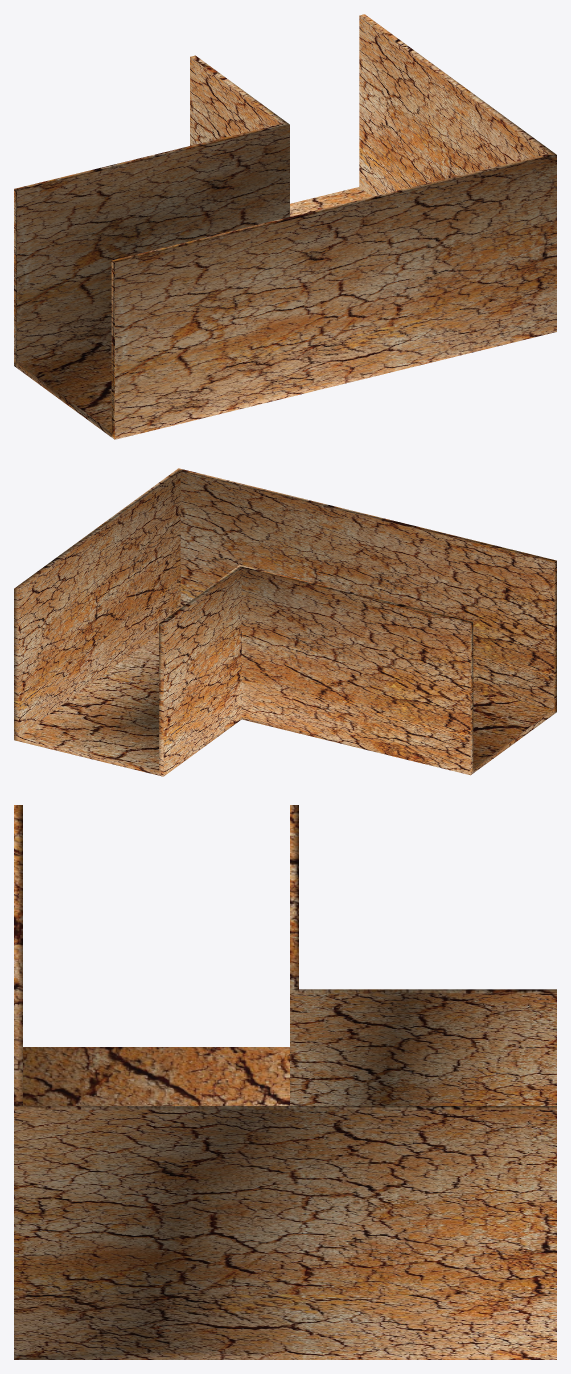
File: Pasillo4.obj
3 views of the same model, one above another, from view 1: azimuth 30°, elevation 25°; view 2: azimuth 150°, elevation 25°; view 3: azimuth 270°, elevation 25° (orthographic). The views are drawn at different scales.
Parts seen in each view (by area): view 1: Pasillo033; view 2: Pasillo033; view 3: Pasillo033.
Boxes of the visible parts, box(x1,y1,x2,y2) form: Pasillo033: box(14, 14, 556, 439); Pasillo033: box(14, 468, 556, 776); Pasillo033: box(14, 805, 556, 1359).
Size of the model in its own units: 319 by 122 by 240.
